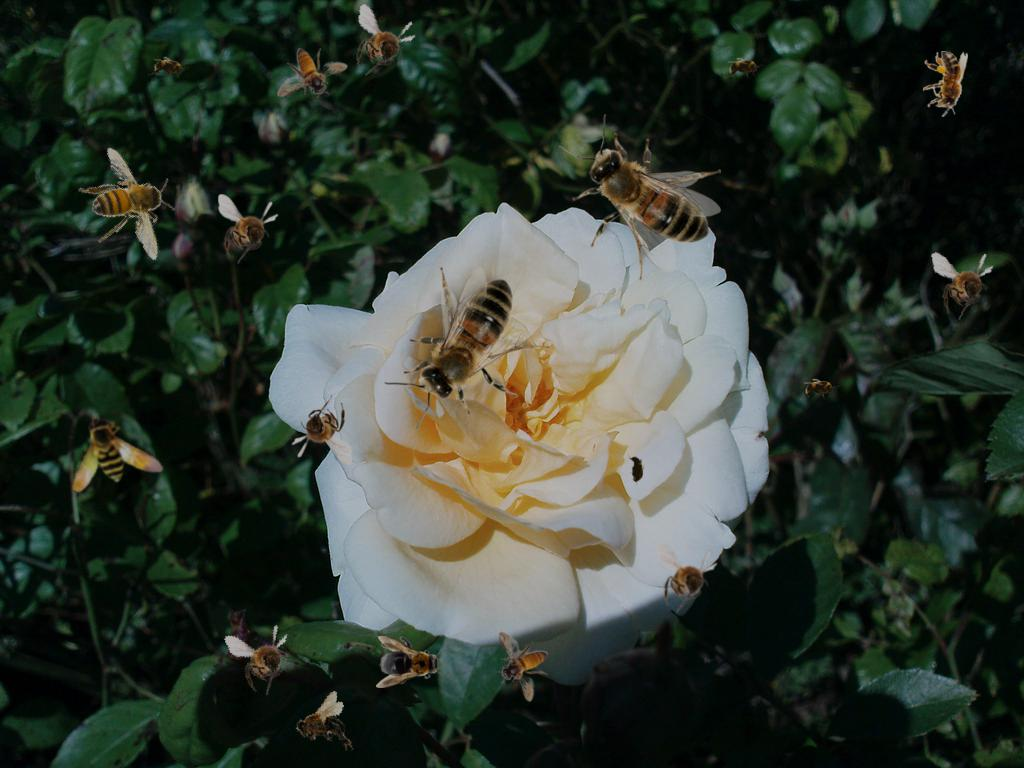Bee: (559, 114, 721, 281), (384, 267, 551, 429), (56, 134, 203, 280), (63, 410, 175, 518), (223, 615, 306, 703), (346, 3, 421, 85), (930, 245, 1001, 323), (288, 689, 357, 765), (291, 395, 352, 465), (657, 543, 718, 613), (218, 194, 279, 264), (498, 631, 548, 702), (277, 48, 348, 98), (376, 636, 444, 688), (923, 51, 968, 117), (147, 53, 191, 83), (624, 449, 648, 491), (724, 57, 764, 79), (800, 378, 840, 400)
